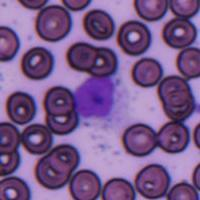L: (72, 75, 129, 123)
